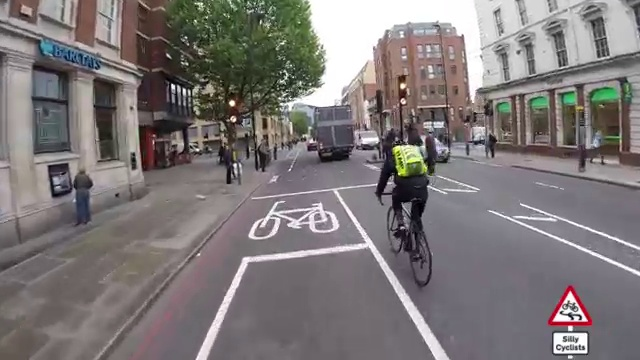cyclist_back: (374, 135, 439, 290)
